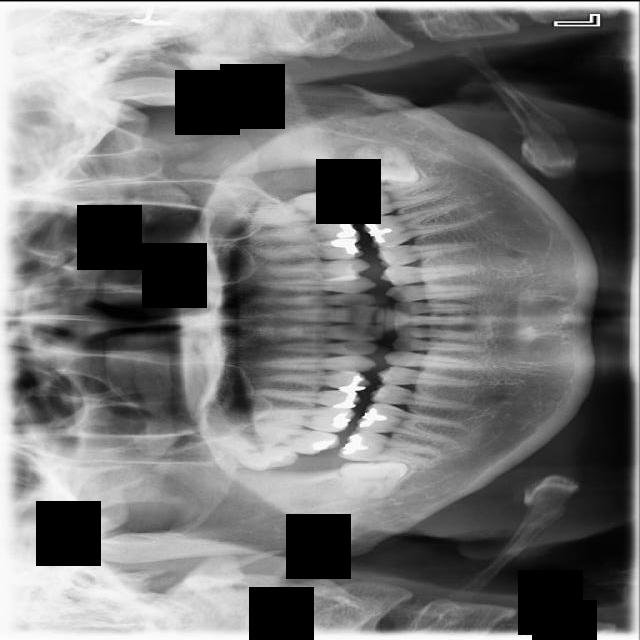3M ESPE Implant: (205, 424, 300, 480)
52: (357, 200, 413, 259), (352, 391, 403, 445), (341, 175, 394, 225), (336, 422, 391, 470), (286, 185, 350, 224), (309, 211, 362, 250), (282, 426, 341, 457), (306, 404, 357, 434), (324, 367, 372, 393), (369, 379, 412, 408), (375, 241, 417, 268), (319, 237, 365, 261), (379, 264, 421, 287), (318, 388, 363, 409), (377, 365, 413, 385)
73: (574, 26, 584, 30)
BioHorizons Implant: (229, 187, 350, 228)
Biomet 3i Implant: (347, 140, 422, 187)
Blue Sky Bio Implant: (341, 170, 446, 222)
Caries: (229, 414, 342, 460)
Implant: (336, 426, 440, 468)
Keystone Dental Implant: (340, 457, 411, 502)
